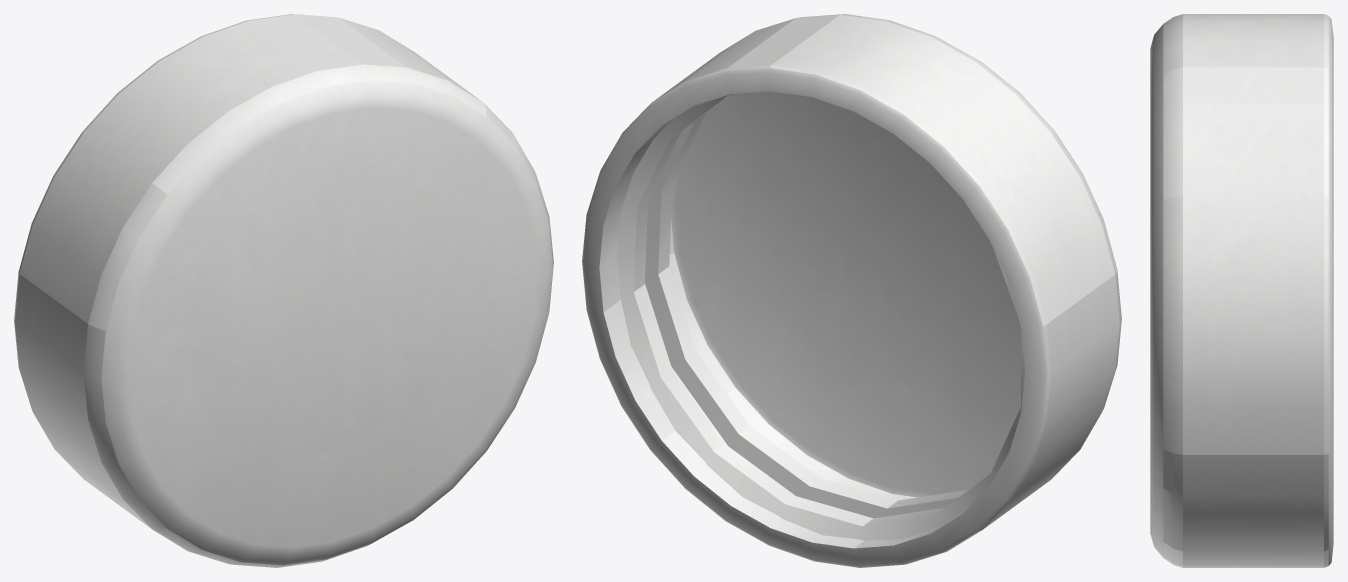
The model's file is aspirin_pill_bottle_cap.obj.
3 views of the same model, side by side, from view 1: azimuth 30°, elevation 25°; view 2: azimuth 150°, elevation 25°; view 3: azimuth 270°, elevation 25° (orthographic). The views are drawn at different scales.
Size of the model in its own units: 0.0623 by 0.0623 by 0.0206.
1 material, 1 textured.
